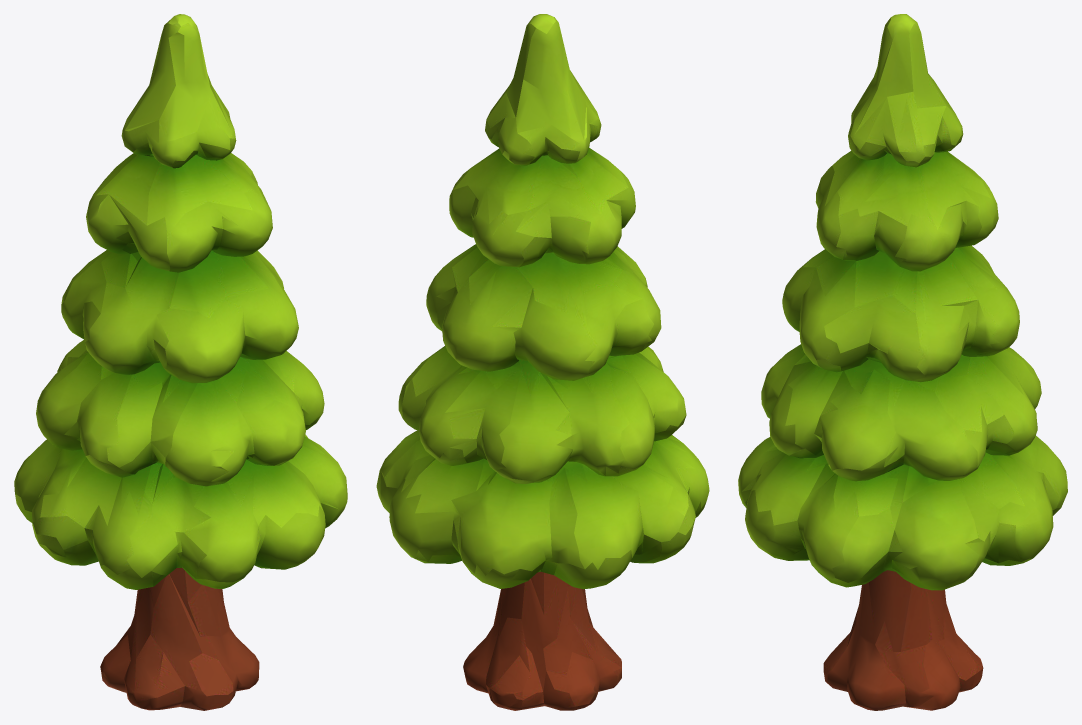
The model's file is tree-pine.glb.
The picture shows the model from 3 angles, left to right: view 1: azimuth 30°, elevation 25°; view 2: azimuth 150°, elevation 25°; view 3: azimuth 270°, elevation 25°; orthographic projection.
Parts seen in each view (by area): view 1: mesh_node; view 2: mesh_node; view 3: mesh_node.
Part boxes in pixels (x1,y1,x2,y2): mesh_node: (14,14,347,710); mesh_node: (376,14,709,710); mesh_node: (738,14,1067,710).
Size of the model in its own units: 0.849 by 1.9 by 0.8478.
1 material, 1 textured.
